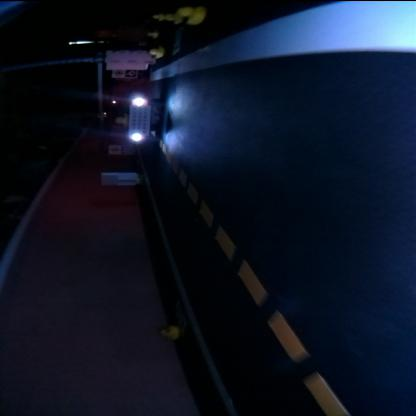Duckie: (182, 7, 206, 24), (160, 326, 178, 340), (150, 46, 164, 58), (147, 31, 154, 38), (152, 16, 160, 22)
Duckiebot: (122, 96, 160, 141)
QR code: (174, 301, 186, 327), (173, 27, 183, 55), (124, 69, 136, 78), (120, 146, 130, 154)
